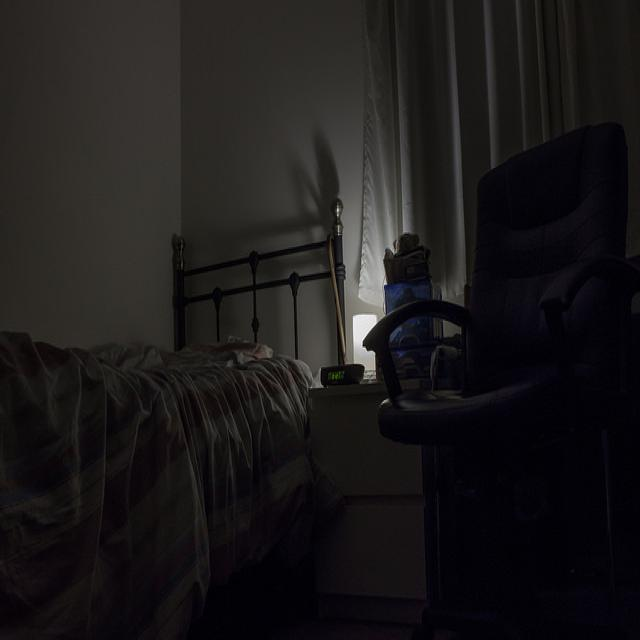Table: (290, 343, 437, 640)
chair: (364, 106, 639, 640)
